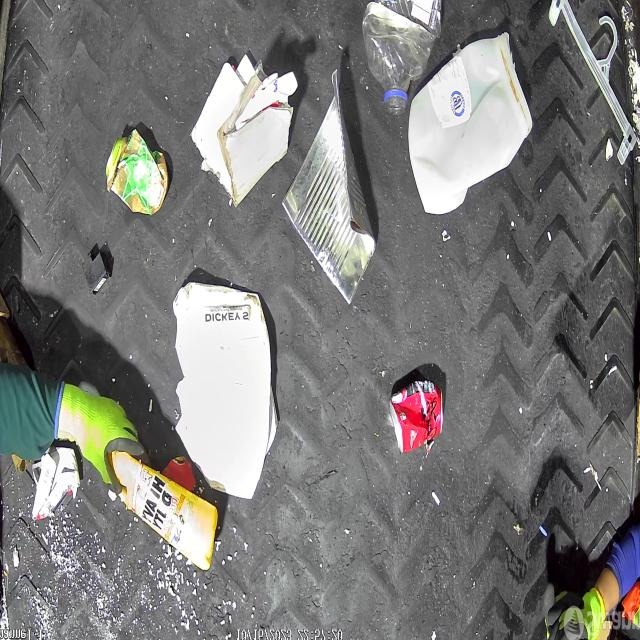can: (389, 379, 443, 454)
milk_jug: (408, 32, 534, 215)
non_white_jug: (111, 452, 218, 572)
plastic_bottle: (362, 0, 444, 116)
